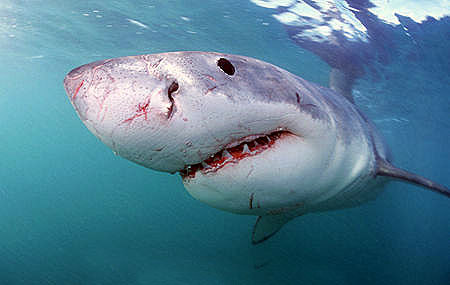Carcharodon_carcharias: (56, 30, 444, 260)
